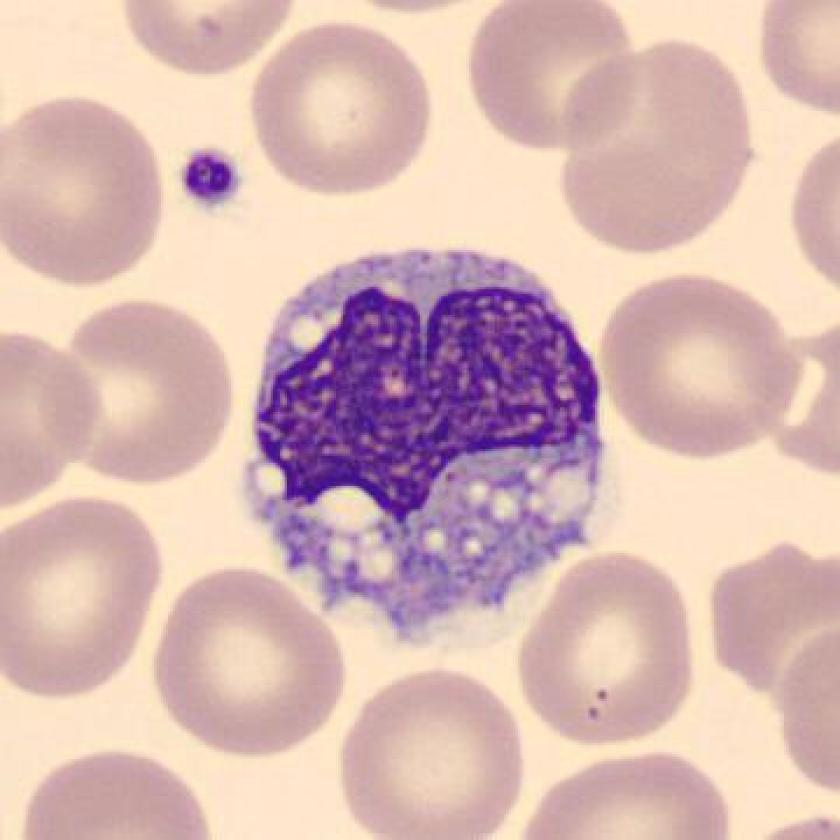monocyte: (232, 232, 626, 656)
